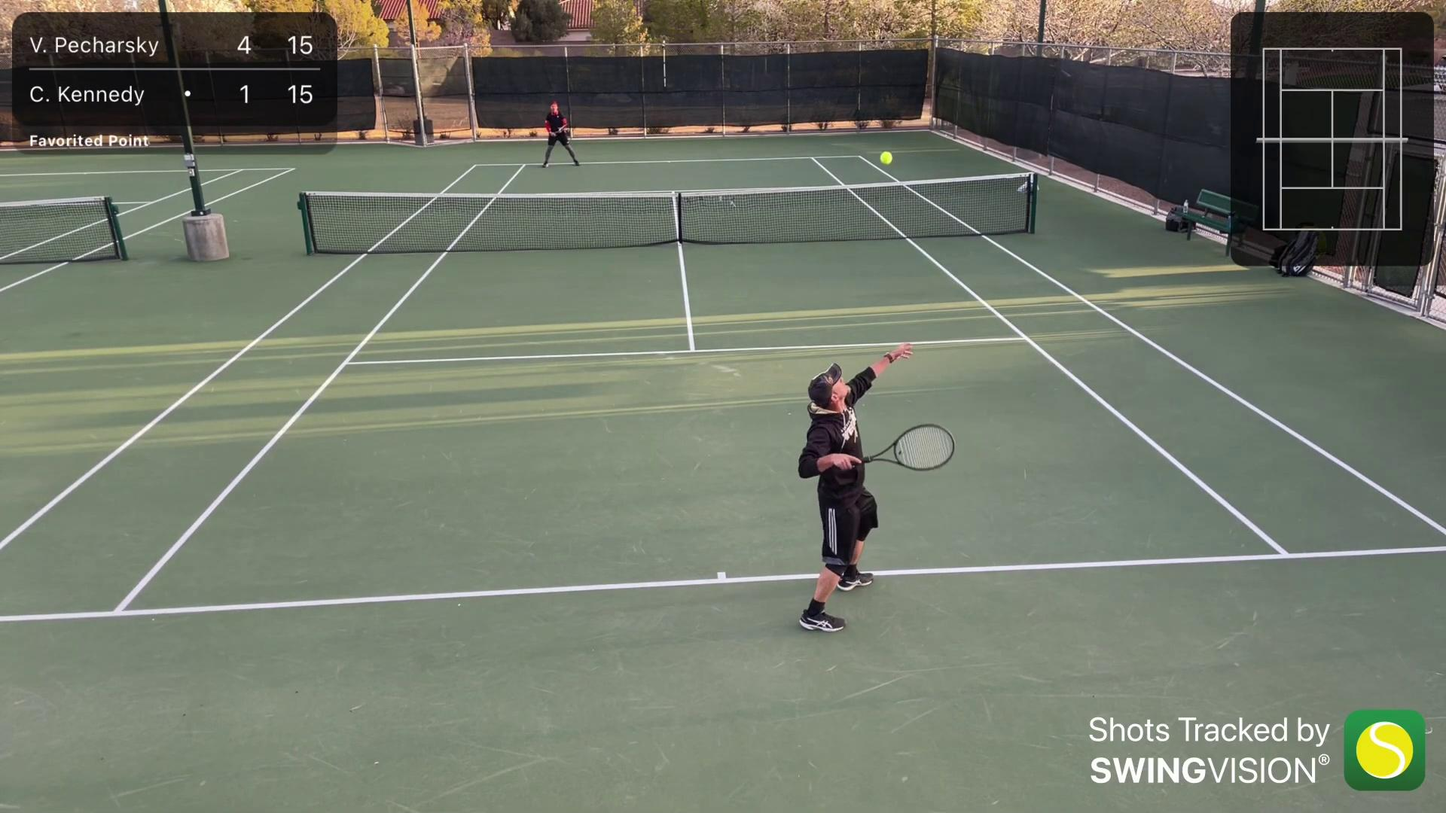ball: (877, 150, 895, 166)
